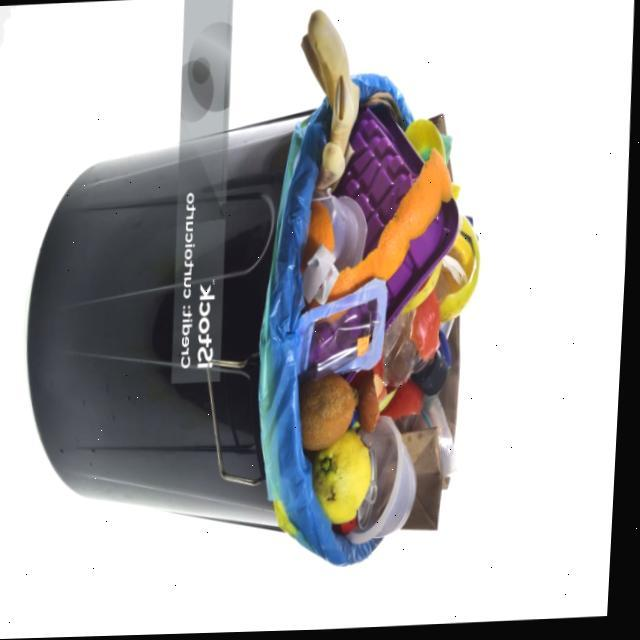Garbage: (299, 13, 482, 546)
Plastic: (337, 108, 424, 259), (388, 204, 460, 333), (299, 281, 390, 383), (324, 198, 369, 272), (385, 314, 422, 391), (415, 334, 453, 398), (305, 245, 342, 307), (414, 293, 442, 363), (442, 137, 453, 167), (442, 137, 453, 165), (421, 151, 432, 164)
Plastic_Container: (352, 417, 420, 546)
Plastic_wraper: (424, 399, 460, 480)
Rubber: (301, 11, 360, 193)
can: (339, 438, 381, 537)
